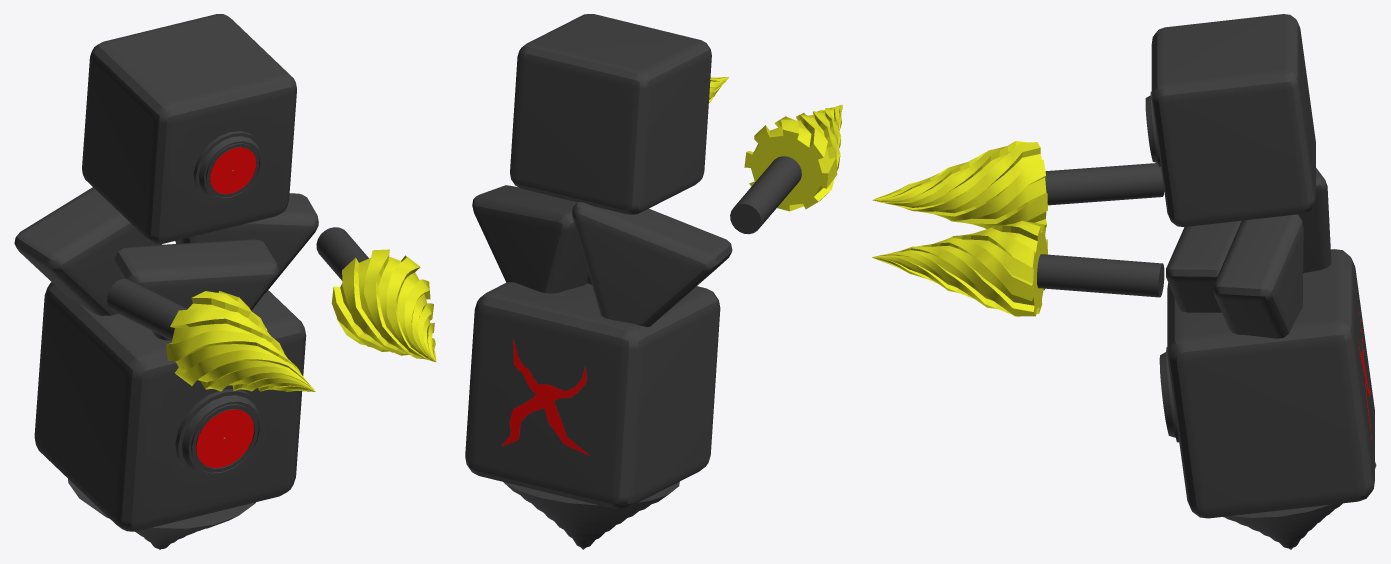
The model's file is Boss6.fbx.
The picture shows the model from 3 angles, left to right: view 1: azimuth 30°, elevation 25°; view 2: azimuth 150°, elevation 25°; view 3: azimuth 270°, elevation 25°; orthographic projection. The views are drawn at different scales.
Parts seen in each view (by area): view 1: polySurface1; view 2: polySurface1; view 3: polySurface1.
Boxes of the visible parts, x1=… form: polySurface1: x1=14, y1=14, x2=436, y2=549; polySurface1: x1=465, y1=14, x2=842, y2=549; polySurface1: x1=872, y1=14, x2=1376, y2=549.
Bounding box in the file's own units: 30 × 54.57 × 49.2.
